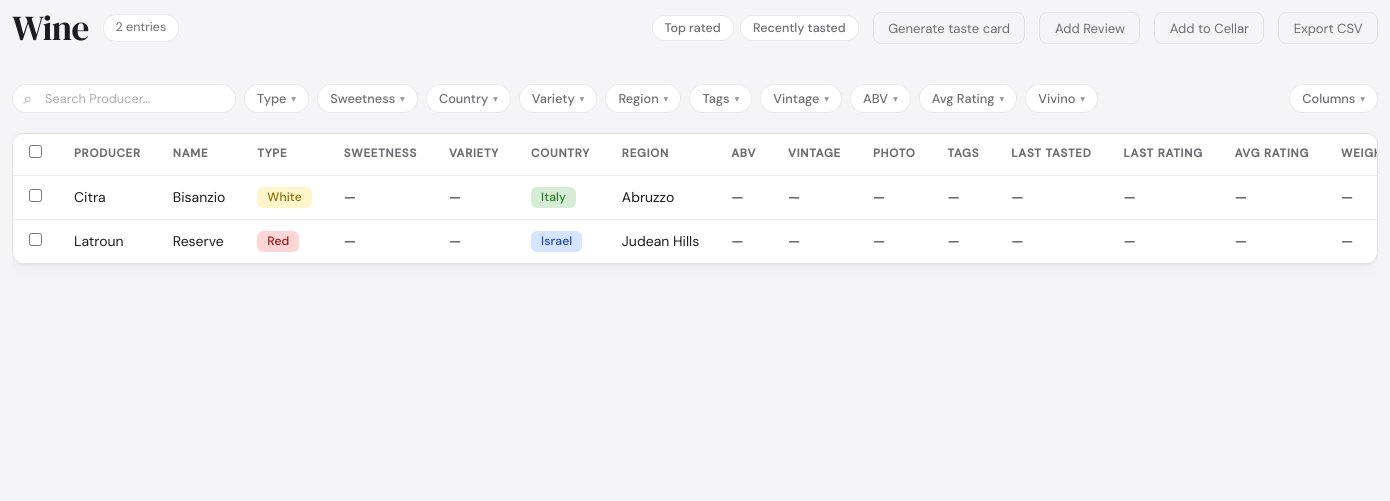
Test: selecting a row shows the bulk edit bar with the right count
This screenshot has width=1390, height=501.
expect the text "Bisanzio" is shown: met, box [157,176,241,220]
Click the checkbox named "Select row 1" at (36, 196), box [29,189,42,202]
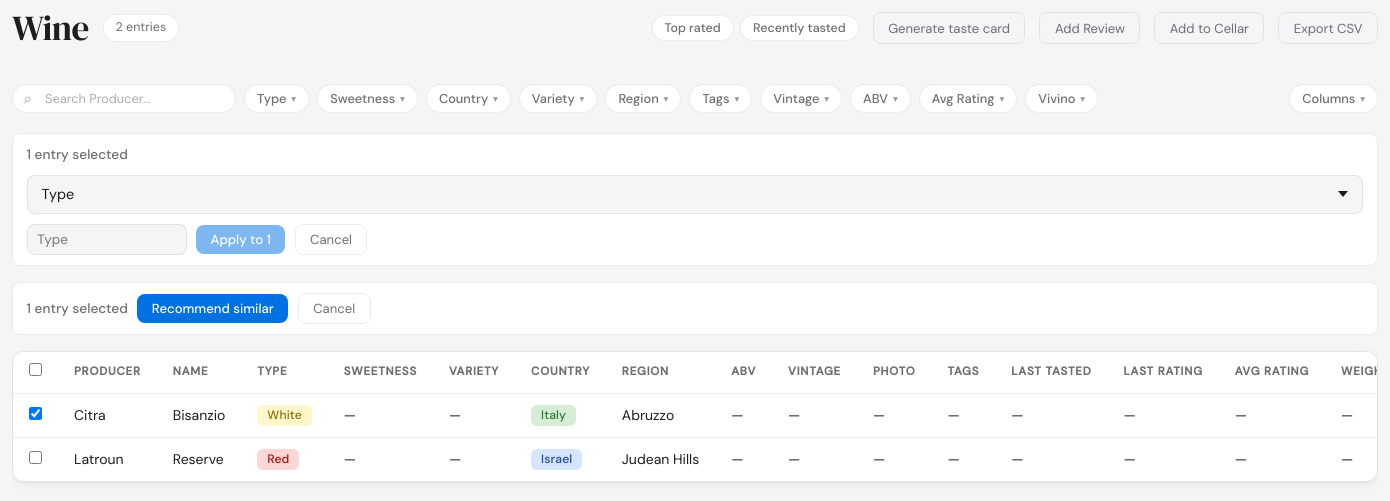
expect the element with test id "bulk-edit-bar" that starts with "1 entry" is shown: met, box [12,133,1378,266]
expect the 1st text "1 entry selected" is shown: met, box [27,144,128,165]
